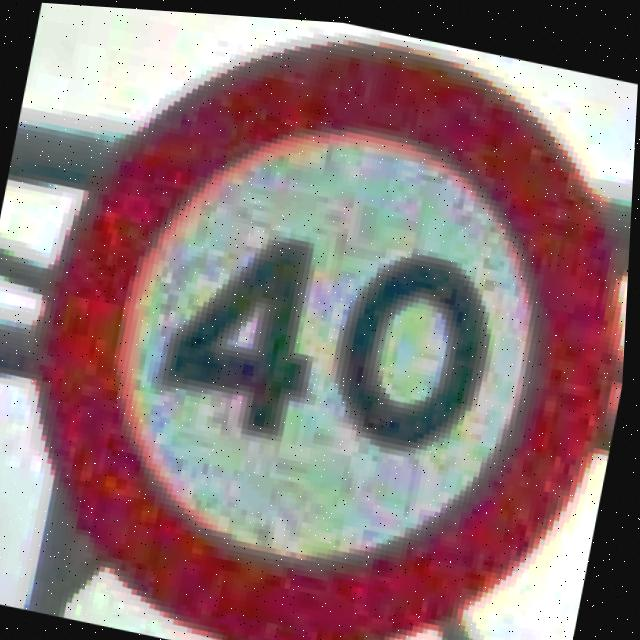max40: (0, 1, 640, 640)
